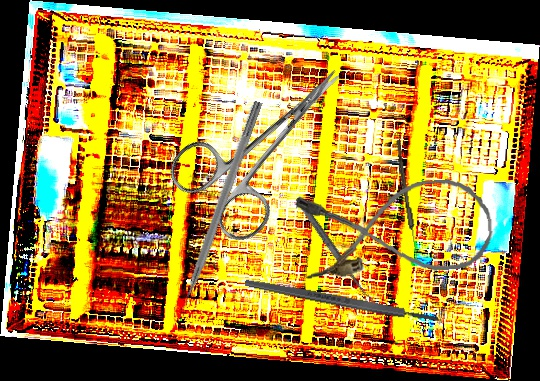Cannula: (294, 175, 497, 283)
Iris Scissors: (160, 34, 381, 252)
Pusher: (170, 99, 264, 326)
Scalpel Handle: (244, 276, 439, 326)
Surgical Spoon: (294, 196, 374, 306), (393, 139, 421, 259)
